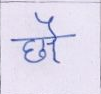ai_matra: (35, 12, 59, 37)
